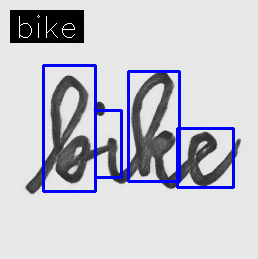b: (48, 73, 92, 186)
e: (186, 130, 225, 188)
i: (93, 99, 124, 184)
k: (129, 70, 181, 190)
